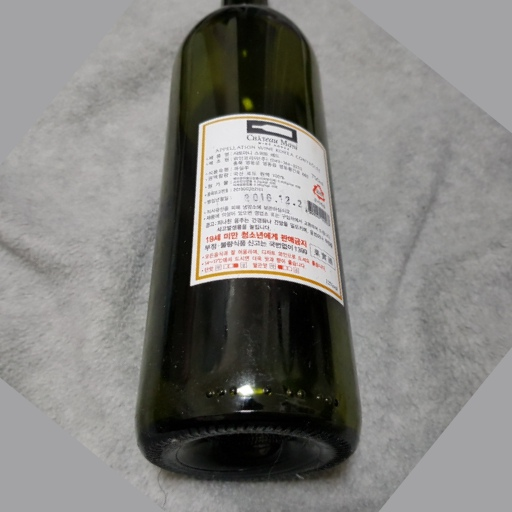Glass_2: (127, 1, 363, 479)
